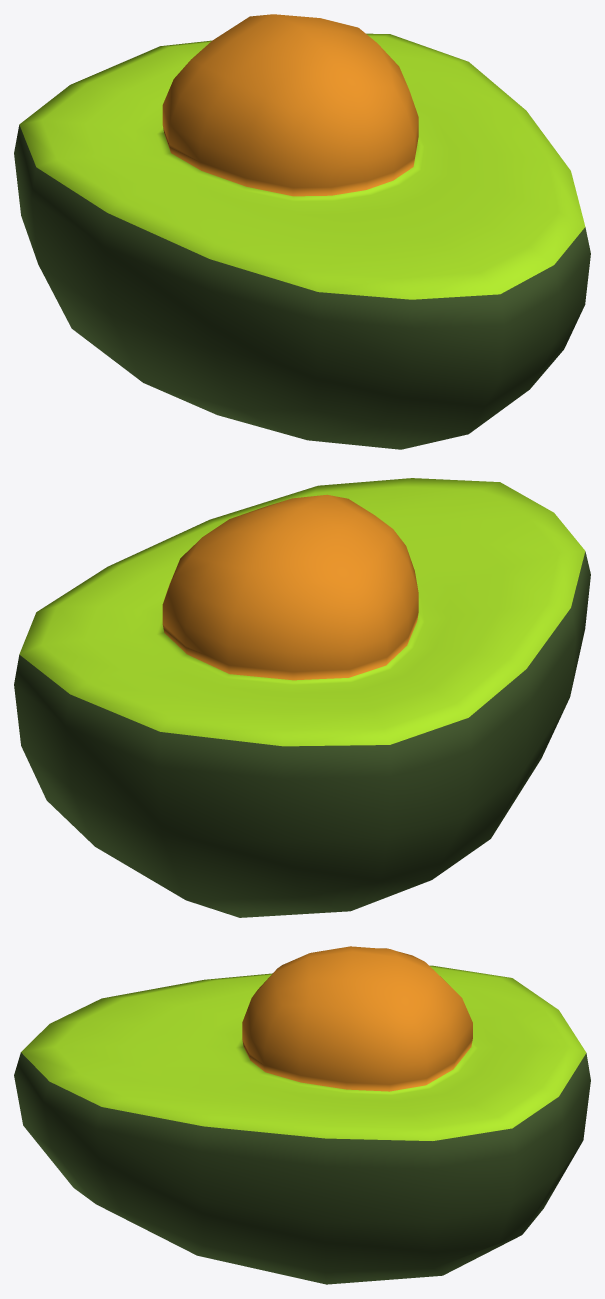
Rendered from avocadotext.fbx.
The picture shows the model from 3 angles, top to bottom: view 1: azimuth 30°, elevation 25°; view 2: azimuth 150°, elevation 25°; view 3: azimuth 270°, elevation 25°; orthographic projection. The views are drawn at different scales.
Parts seen in each view (by area): view 1: Cube.020; view 2: Cube.020; view 3: Cube.020.
Boxes of the visible parts, bbox=[...] form: Cube.020: bbox=[14, 14, 590, 449]; Cube.020: bbox=[14, 478, 590, 917]; Cube.020: bbox=[14, 946, 590, 1284].
Size of the model in its own units: 39.06 by 32.33 by 53.32.
